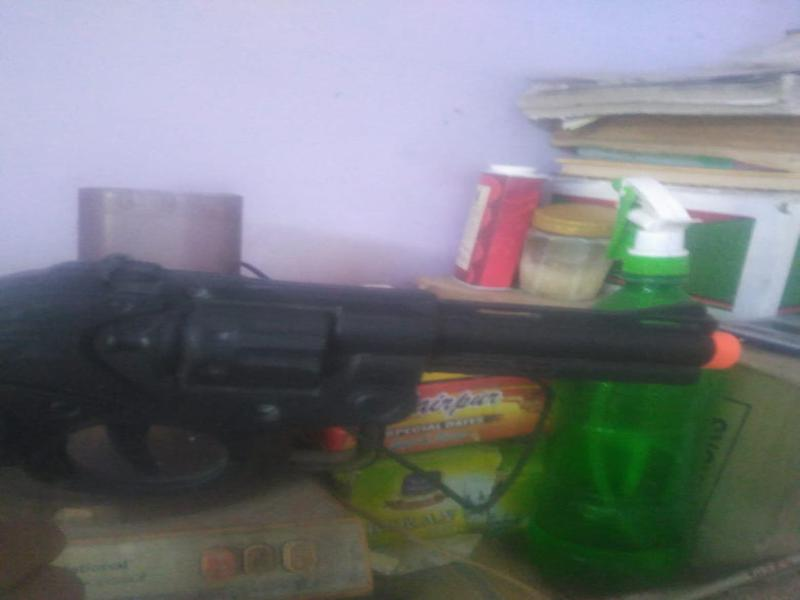gun: (9, 218, 756, 524)
